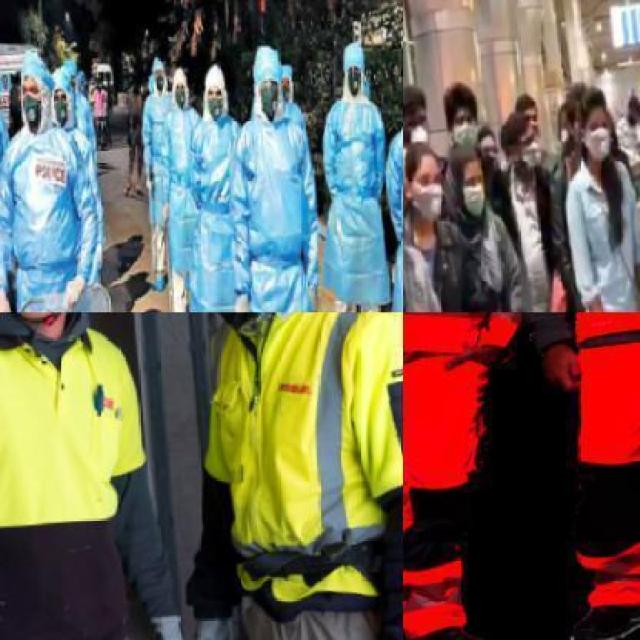Vest: (0, 122, 117, 310), (224, 115, 334, 311), (318, 97, 394, 311), (183, 114, 254, 311), (157, 106, 214, 282), (140, 97, 183, 232), (0, 106, 14, 240)
